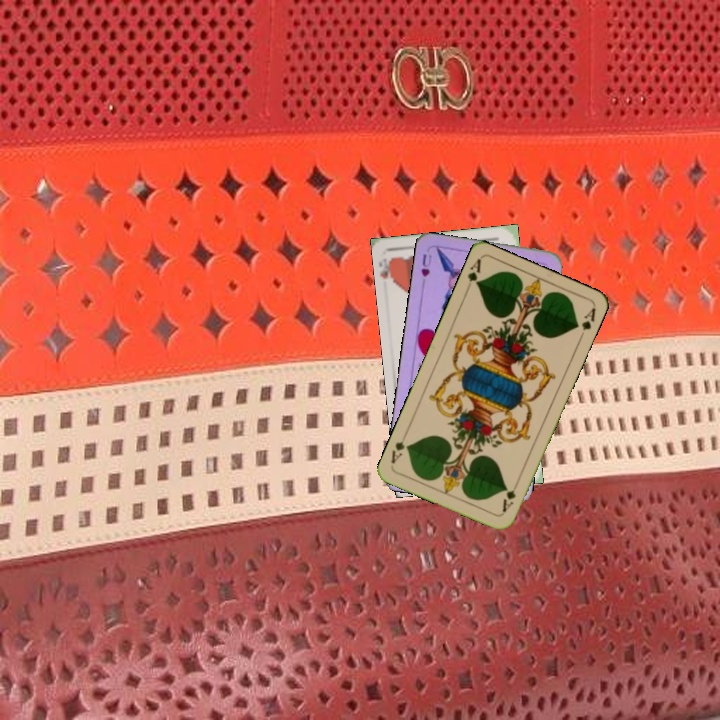GA: (498, 477, 521, 515), (462, 255, 483, 295)
HO: (377, 254, 398, 289)
HU: (417, 250, 434, 279)
